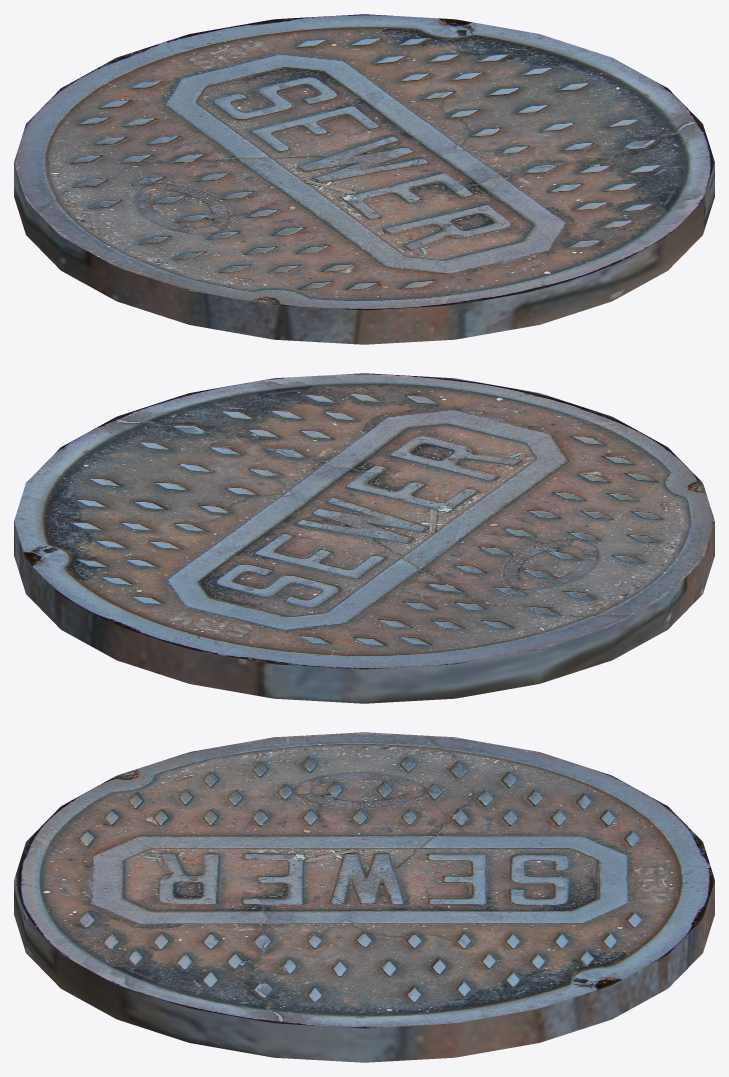
The model's file is SM_Scene_A_ManholeCover00.fbx.
3 renders of one model, top to bottom at view 1: azimuth 30°, elevation 25°; view 2: azimuth 150°, elevation 25°; view 3: azimuth 270°, elevation 25°, orthographic.
Parts seen in each view (by area): view 1: SM_Scene_A_ManholeCover00; view 2: SM_Scene_A_ManholeCover00; view 3: SM_Scene_A_ManholeCover00.
Boxes of the visible parts, bbox=[...] form: SM_Scene_A_ManholeCover00: bbox=[14, 14, 714, 344]; SM_Scene_A_ManholeCover00: bbox=[14, 373, 714, 703]; SM_Scene_A_ManholeCover00: bbox=[14, 732, 714, 1062].
Bounding box in the file's own units: 96.54 × 5.21 × 96.54.
